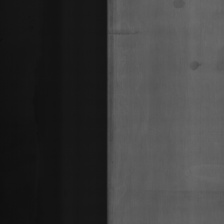oil_spot: (182, 58, 205, 74), (170, 0, 187, 17)
